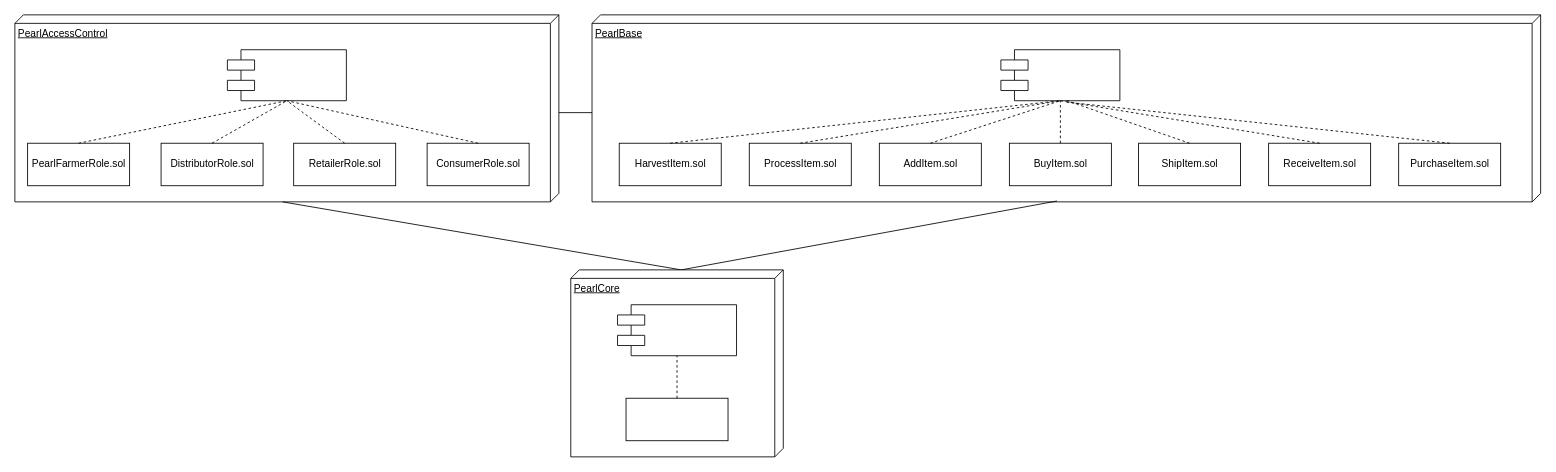
Some shapes in this 1556 by 472 pixel diagram are drawn without their labels. Each missing label, with the centre of its shape:
"Ownable.sol" belongs at point (676, 419).
"Roles.sol" belongs at point (286, 75).
"SupplyChain.sol" belongs at point (1060, 75).
"ValueChain.sol" belongs at point (677, 330).
